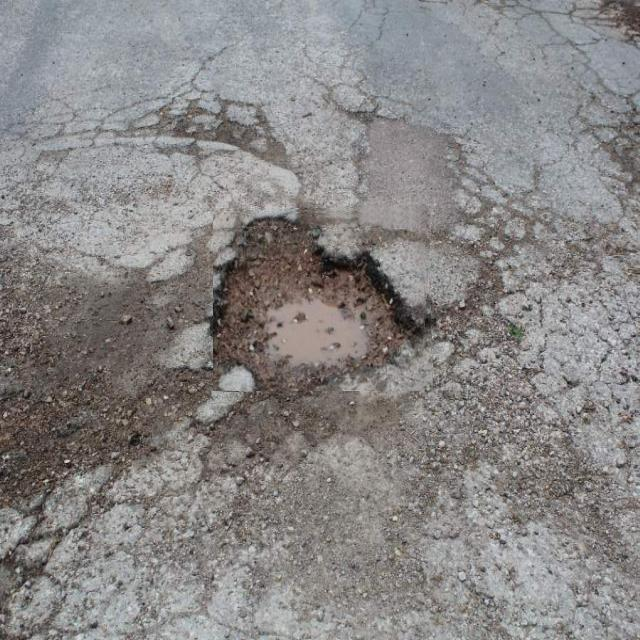Pothole: (213, 206, 432, 391)
